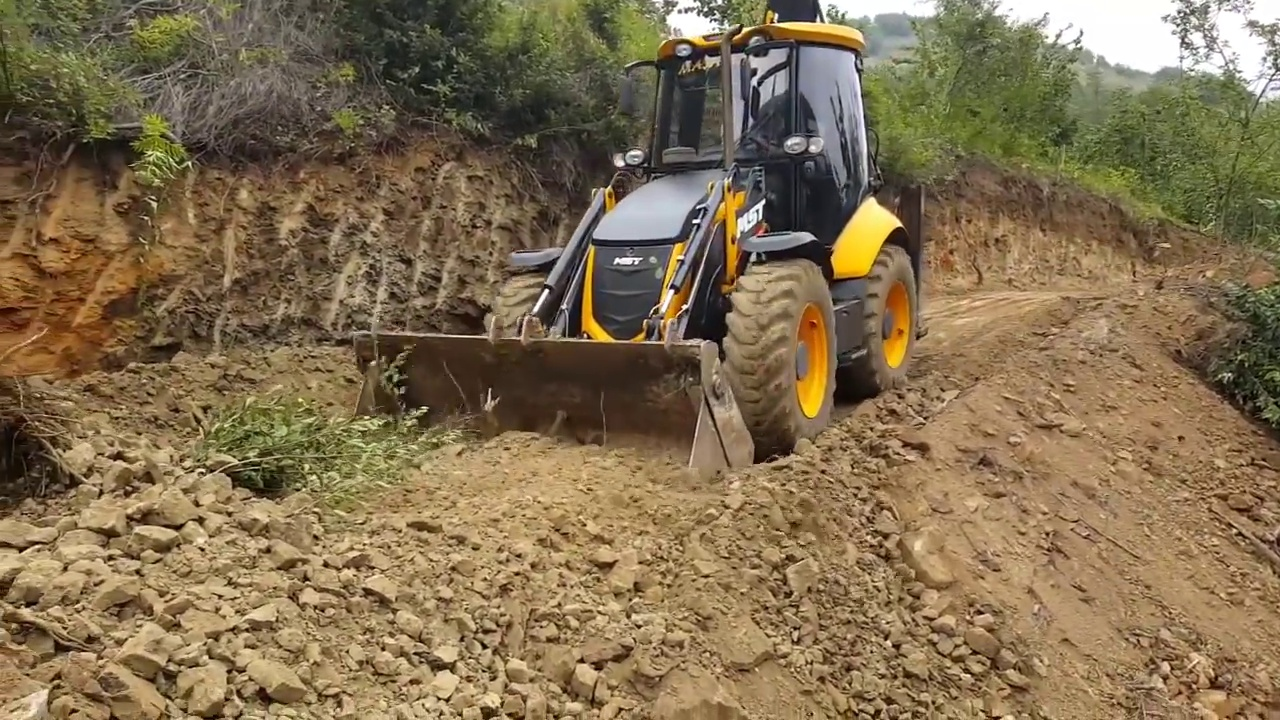wheel loader: (348, 1, 927, 486)
